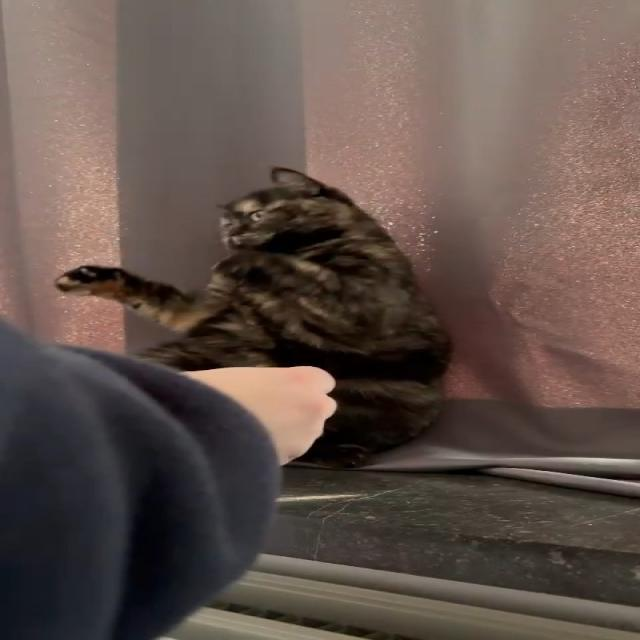authorized: (54, 164, 454, 468)
